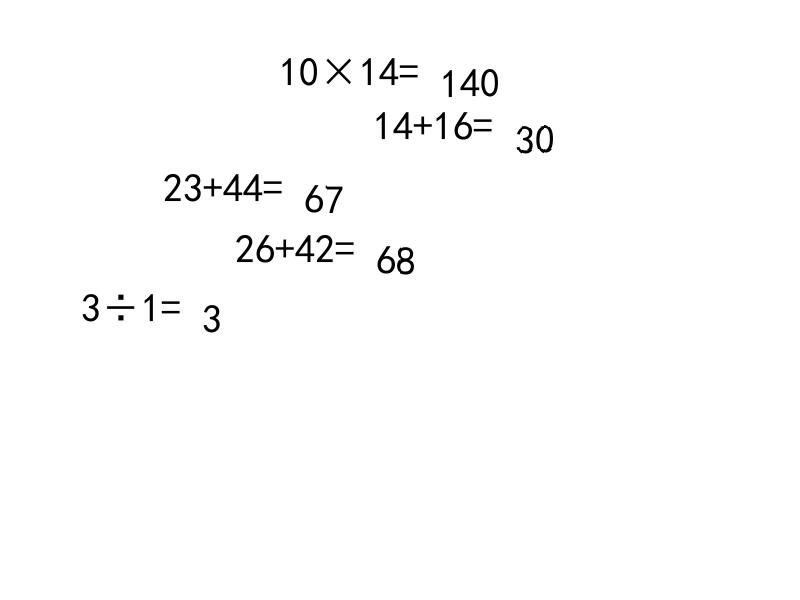+: (203, 167, 223, 196), (275, 228, 295, 257), (413, 105, 433, 133)
0: (299, 51, 319, 80), (469, 51, 489, 80), (523, 105, 543, 133)
1: (279, 51, 299, 80), (359, 51, 379, 80), (429, 51, 449, 80), (141, 287, 161, 316), (373, 105, 393, 133), (433, 105, 453, 133)
2: (163, 167, 183, 196), (235, 228, 255, 257), (315, 228, 335, 257)
3: (183, 167, 203, 196), (81, 287, 101, 316), (191, 287, 211, 316), (503, 105, 523, 133)
4: (379, 51, 399, 80), (449, 51, 469, 80), (223, 167, 243, 196), (243, 167, 263, 196), (295, 228, 315, 257), (393, 105, 413, 133)
6: (293, 167, 313, 196), (255, 228, 275, 257), (365, 228, 385, 257), (453, 105, 473, 133)
7: (313, 167, 333, 196)
8: (385, 228, 405, 257)
=: (399, 51, 419, 80), (263, 167, 283, 196), (335, 228, 355, 257), (161, 287, 181, 316), (473, 105, 493, 133)
×: (319, 51, 359, 80)
÷: (101, 287, 141, 316)
